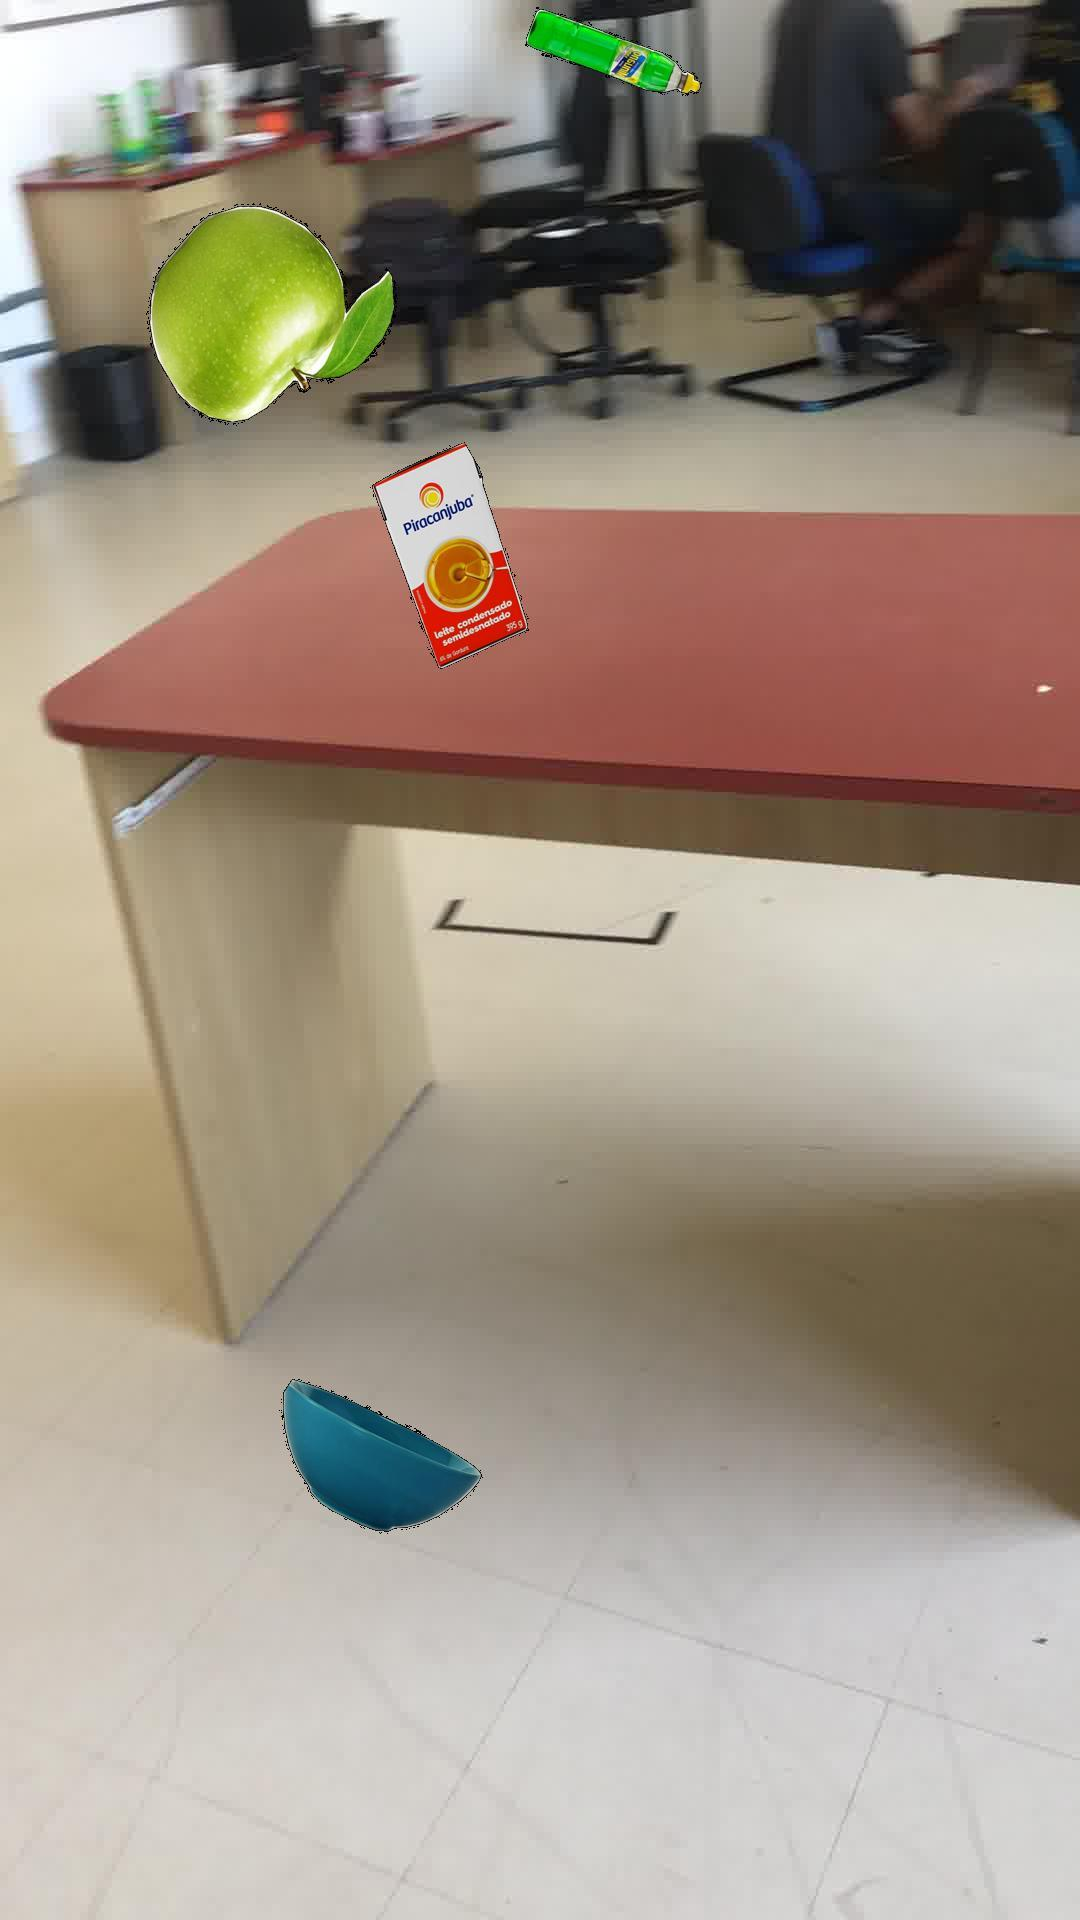bowl: (280, 1378, 480, 1531)
cleaner: (524, 8, 700, 95)
green apple: (146, 204, 396, 422)
